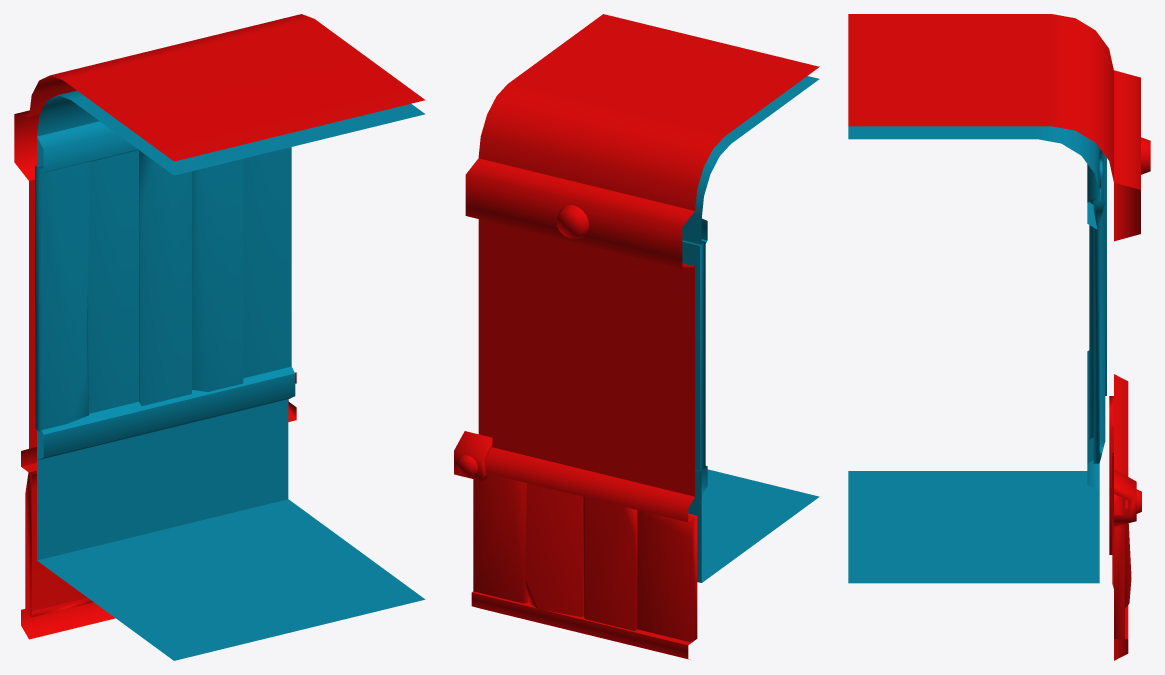
The model's file is SM_Mur_Train_FINAL.fbx.
3 renders of one model, left to right at view 1: azimuth 30°, elevation 25°; view 2: azimuth 150°, elevation 25°; view 3: azimuth 270°, elevation 25°, orthographic. The views are drawn at different scales.
Parts seen in each view (by area): view 1: polySurface397, polySurface393, polySurface402, polySurface403, polySurface401, polySurface399, polySurface400, polySurface1428, polySurface395, polySurface398, polySurface1422, polySurface392 (+1 smaller); view 2: polySurface392, polySurface393, polySurface396, polySurface397, polySurface395, polySurface1421, polySurface388, polySurface387, polySurface394, polySurface1422, polySurface402, polySurface389 (+1 smaller); view 3: polySurface397, polySurface393, polySurface396, polySurface400, polySurface394, polySurface387, polySurface399, polySurface389, polySurface1428, polySurface1421, polySurface395, polySurface403 (+1 smaller).
Part boxes in pixels (x1=…): polySurface397: x1=37, y1=90, x2=425, y2=660; polySurface393: x1=29, y1=14, x2=425, y2=161; polySurface402: x1=35, y1=161, x2=90, y2=432; polySurface403: x1=87, y1=150, x2=138, y2=413; polySurface401: x1=139, y1=150, x2=191, y2=406; polySurface399: x1=192, y1=159, x2=243, y2=391; polySurface400: x1=243, y1=147, x2=291, y2=378; polySurface1428: x1=38, y1=366, x2=295, y2=460; polySurface395: x1=25, y1=471, x2=93, y2=617; polySurface398: x1=37, y1=121, x2=138, y2=173; polySurface1422: x1=21, y1=598, x2=115, y2=639; polySurface392: x1=29, y1=180, x2=36, y2=448; polySurface392: x1=478, y1=219, x2=694, y2=496; polySurface393: x1=478, y1=14, x2=819, y2=210; polySurface396: x1=465, y1=158, x2=694, y2=268; polySurface397: x1=682, y1=76, x2=819, y2=582; polySurface395: x1=637, y1=510, x2=697, y2=642; polySurface1421: x1=524, y1=483, x2=583, y2=616; polySurface388: x1=583, y1=497, x2=637, y2=630; polySurface387: x1=473, y1=473, x2=528, y2=603; polySurface394: x1=485, y1=447, x2=694, y2=522; polySurface1422: x1=471, y1=591, x2=691, y2=659; polySurface402: x1=682, y1=240, x2=705, y2=471; polySurface389: x1=454, y1=431, x2=492, y2=480; polySurface397: x1=848, y1=126, x2=1099, y2=583; polySurface393: x1=848, y1=14, x2=1113, y2=181; polySurface396: x1=1114, y1=70, x2=1140, y2=241; polySurface400: x1=1093, y1=201, x2=1105, y2=463; polySurface394: x1=1114, y1=374, x2=1128, y2=508; polySurface387: x1=1114, y1=493, x2=1124, y2=638; polySurface399: x1=1089, y1=178, x2=1100, y2=439; polySurface389: x1=1114, y1=469, x2=1136, y2=526; polySurface1428: x1=1087, y1=350, x2=1099, y2=491; polySurface1421: x1=1112, y1=452, x2=1131, y2=607; polySurface395: x1=1109, y1=396, x2=1113, y2=554; polySurface403: x1=1099, y1=148, x2=1106, y2=395.
Bounding box in the file's own units: 2.13 × 4.44 × 2.28.
